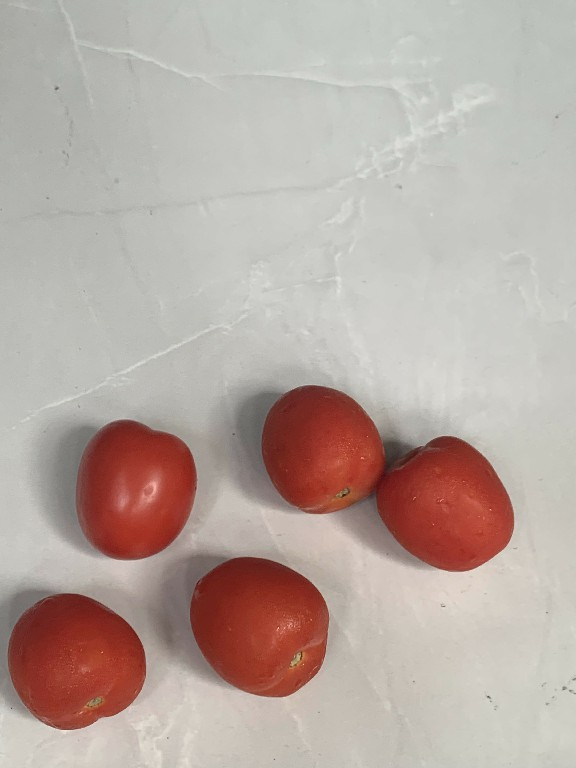OK: (182, 548, 337, 705), (3, 584, 159, 733), (377, 430, 522, 574), (253, 369, 386, 519), (74, 404, 199, 561)
